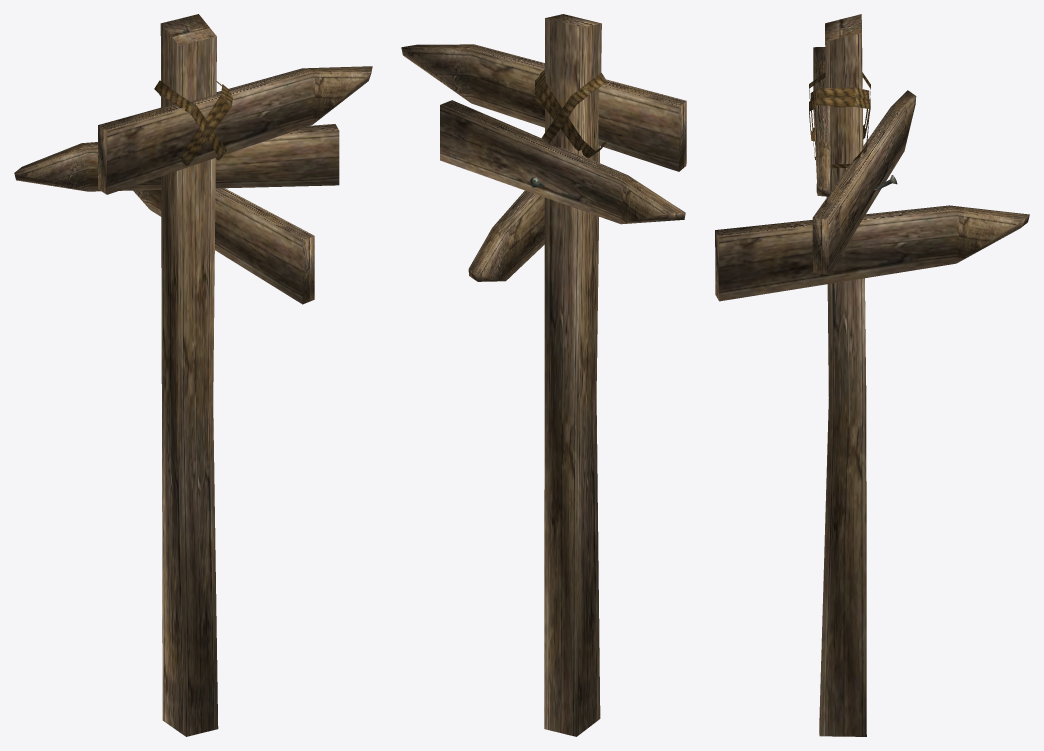
File: S_Build_West084.FBX
The picture shows the model from 3 angles, left to right: view 1: azimuth 30°, elevation 25°; view 2: azimuth 150°, elevation 25°; view 3: azimuth 270°, elevation 25°; orthographic projection.
Visible parts, largest first — view 1: S_Build_West084; view 2: S_Build_West084; view 3: S_Build_West084.
Boxes of the visible parts, box(x1,y1,x2,y2) form: S_Build_West084: box(14, 14, 372, 736); S_Build_West084: box(401, 14, 686, 736); S_Build_West084: box(715, 14, 1029, 736).
Size of the model in its own units: 300 by 254 by 627.
